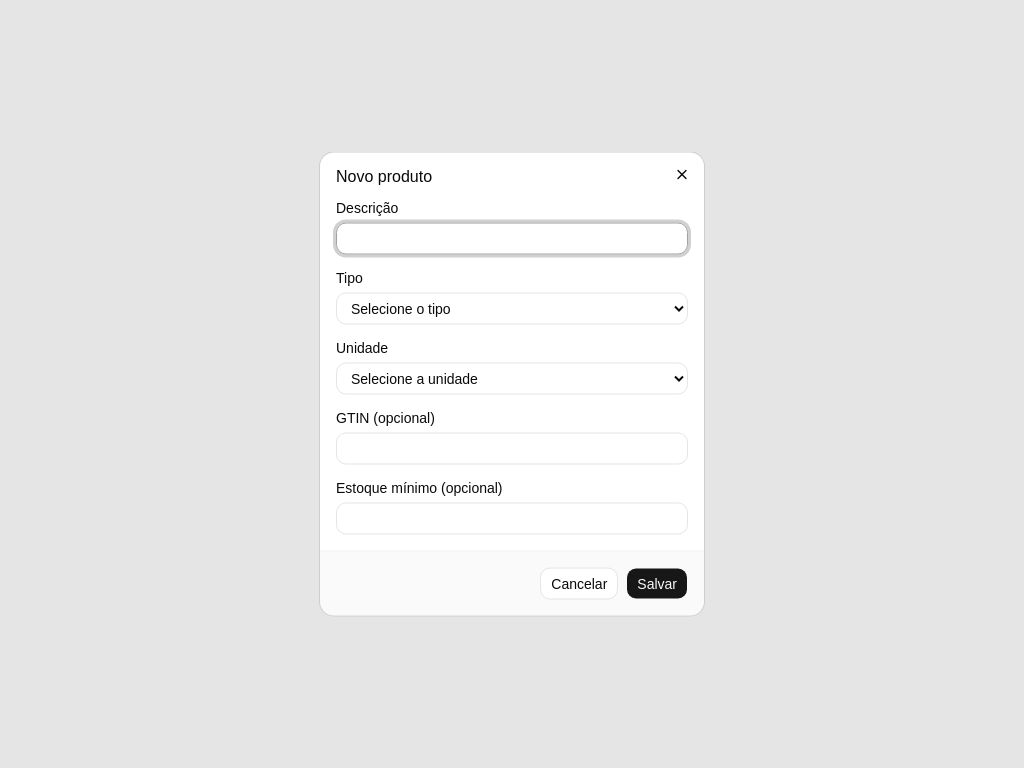
ProductDialog › refuses a GTIN that is not 8 to 14 digits
Type "Farinha de trigo" into the field labelled "Descrição" at {"x": 512, "y": 238}, box [336,222,688,254]
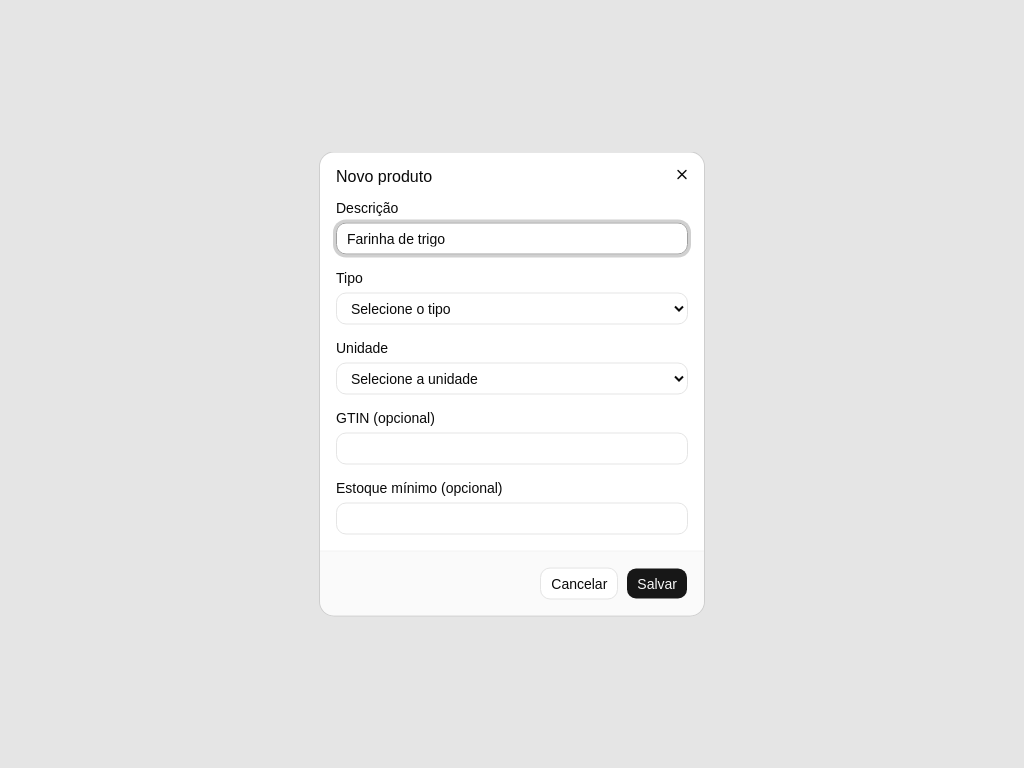
Select "Mercadoria" in the dropdown labelled "Tipo" at {"x": 512, "y": 308}, box [336,292,688,324]
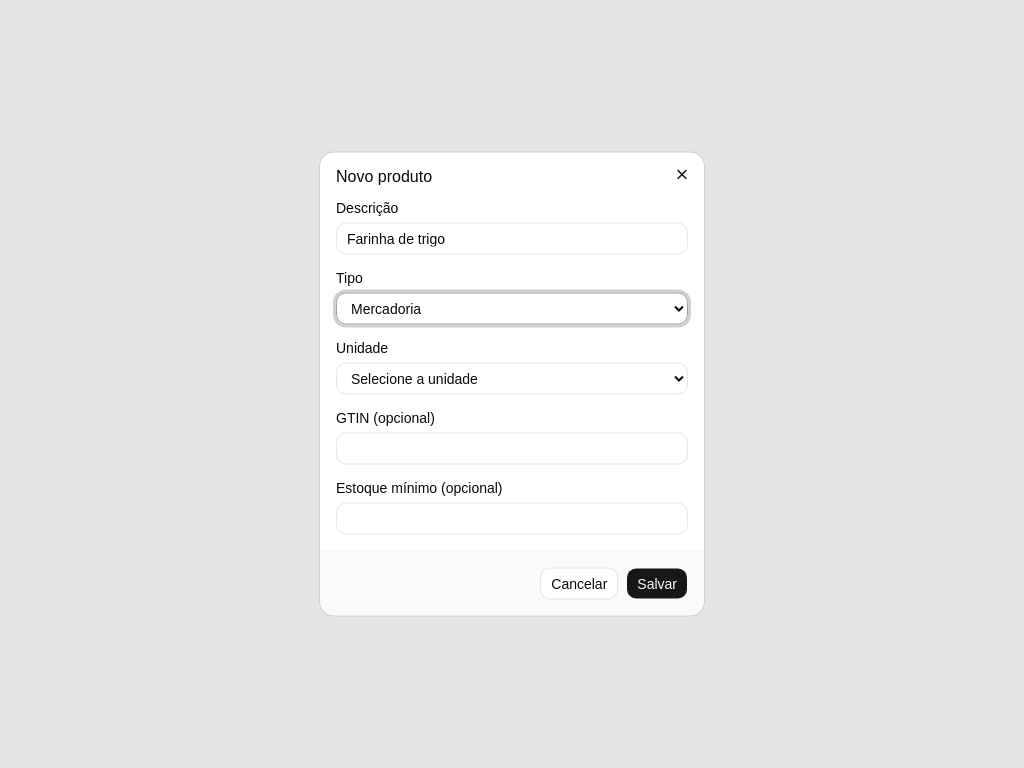
Select "Quilograma (kg)" in the dropdown labelled "Unidade" at {"x": 512, "y": 378}, box [336,362,688,394]
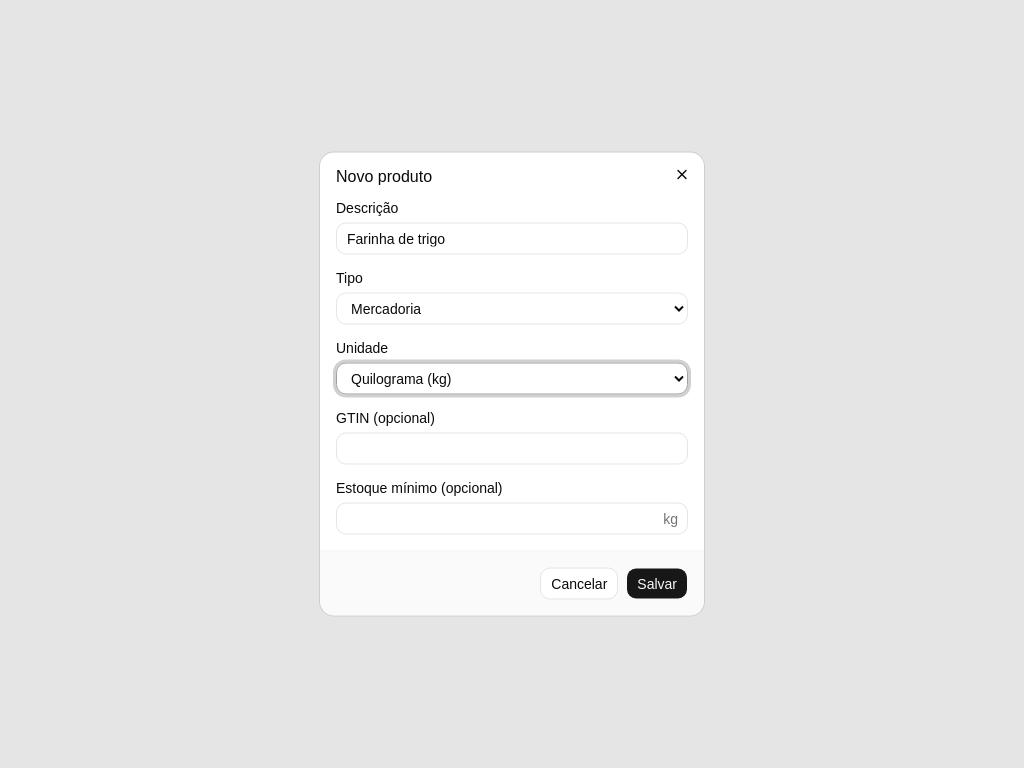
Type "789-1000" into the field labelled "GTIN (opcional)" at {"x": 512, "y": 448}, box [336,432,688,464]
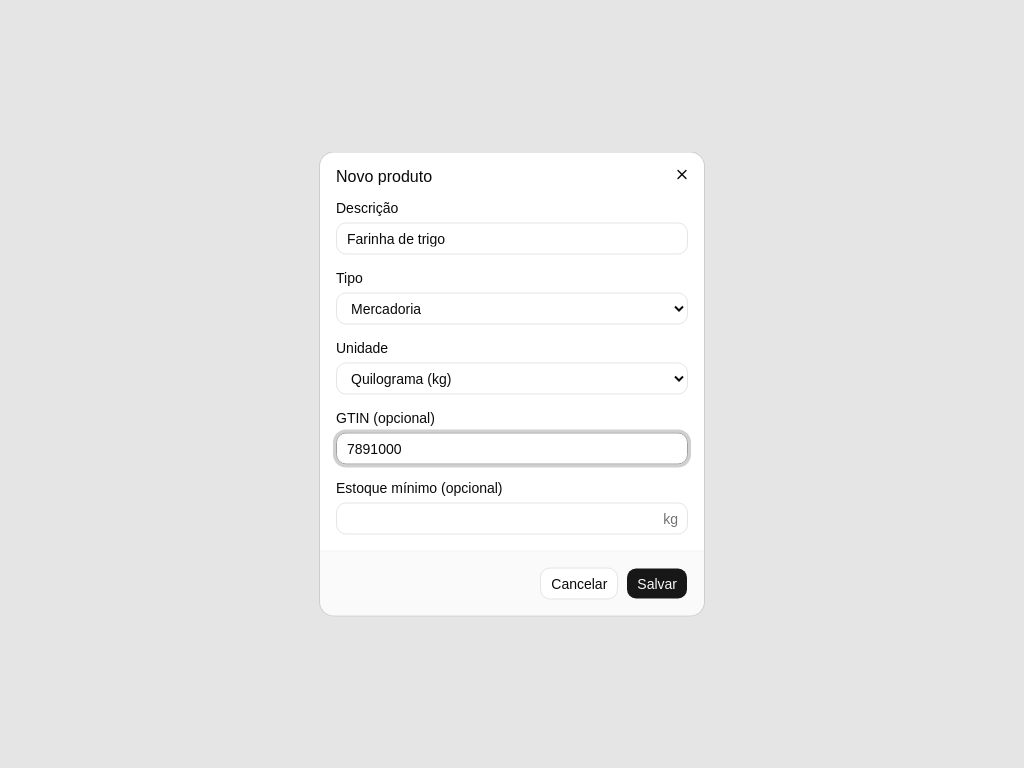
Click the button "Salvar" at {"x": 657, "y": 584}, box [626,568,688,600]
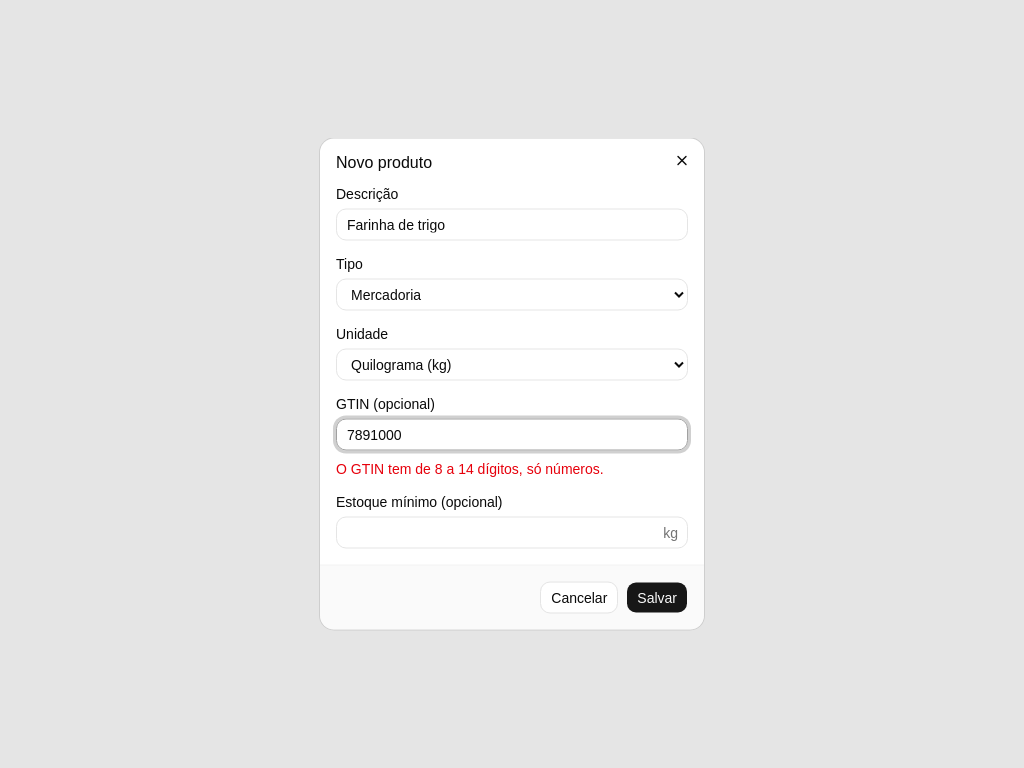
Result: the text "O GTIN tem de 8 a 14 dígitos, só números." is shown at [336,460,604,476]
